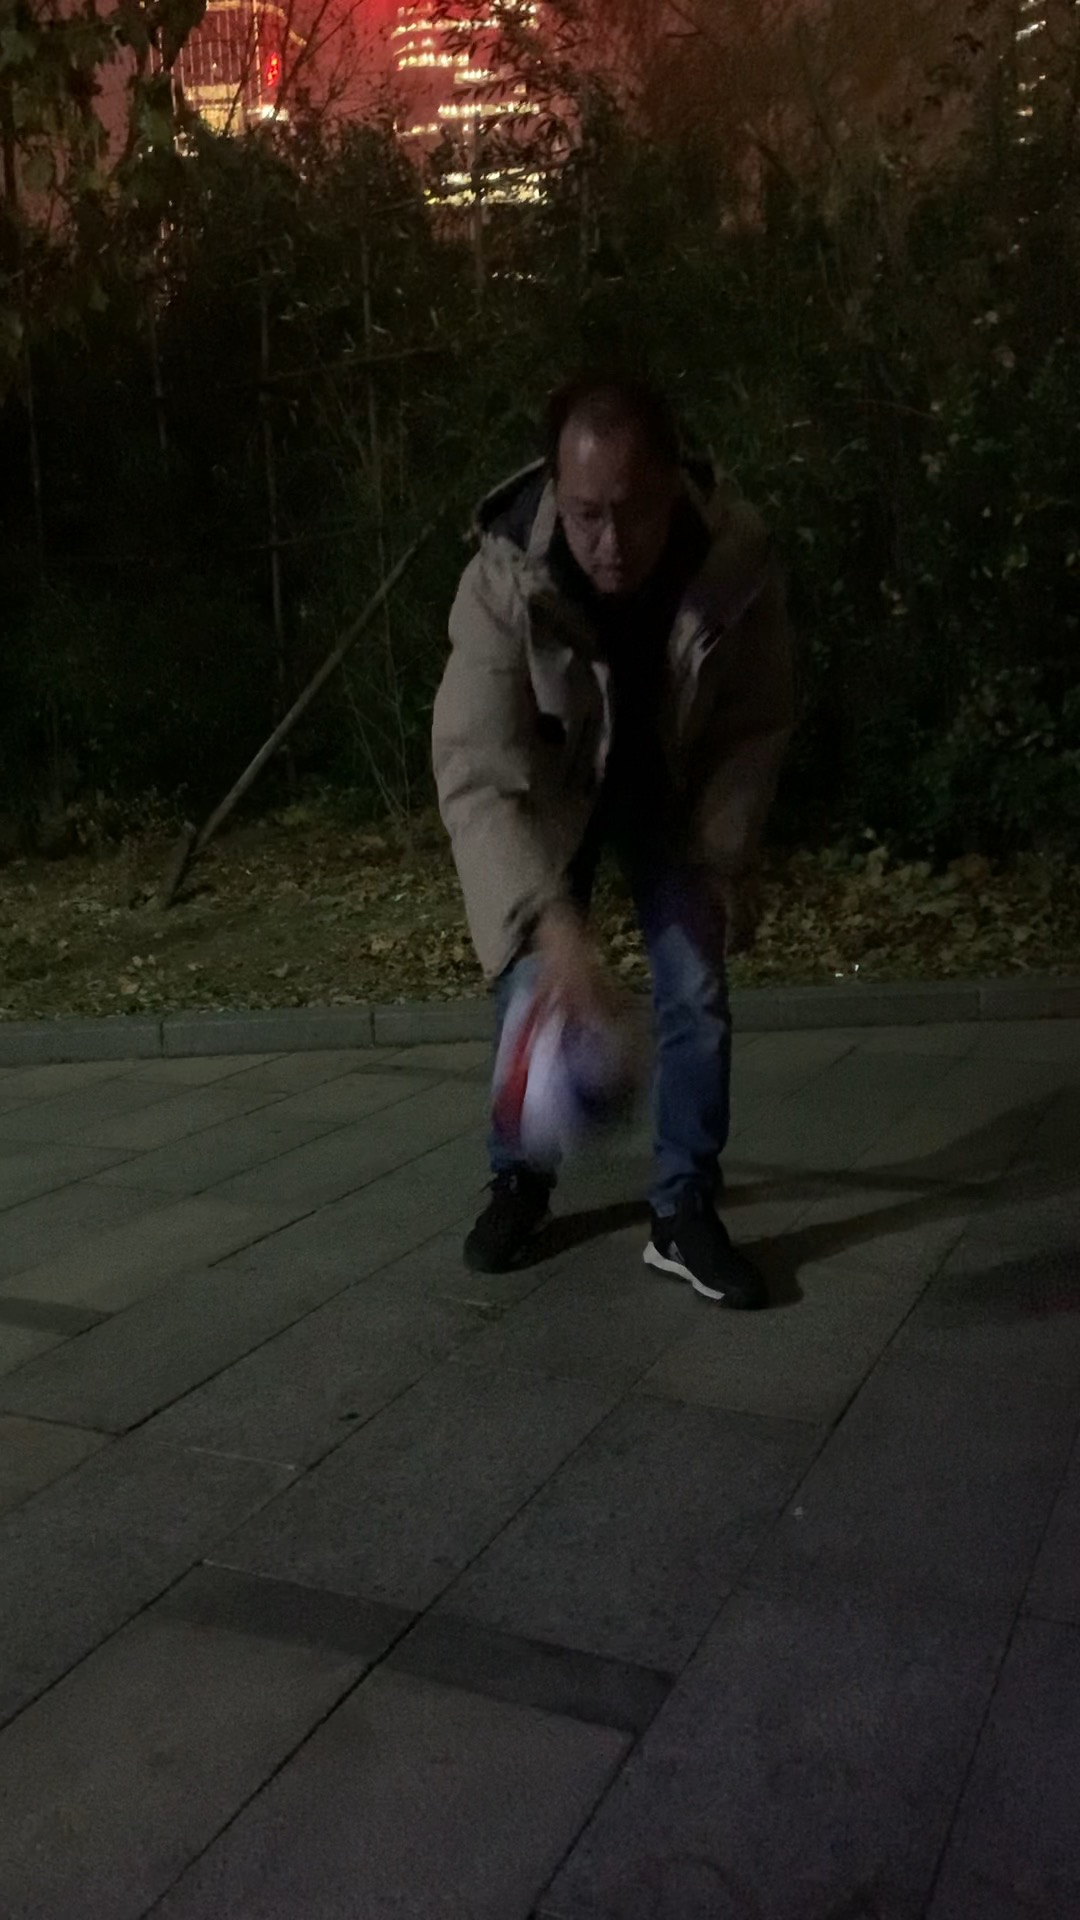ball: (485, 975, 659, 1163)
